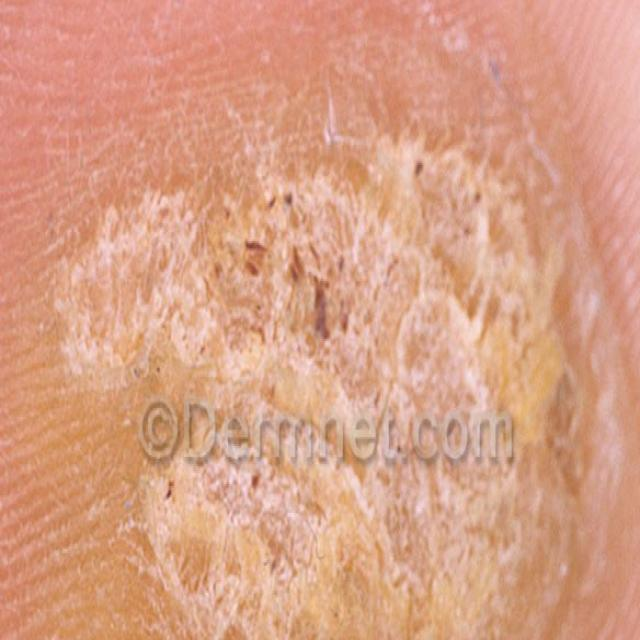Warts: (19, 74, 620, 640)
